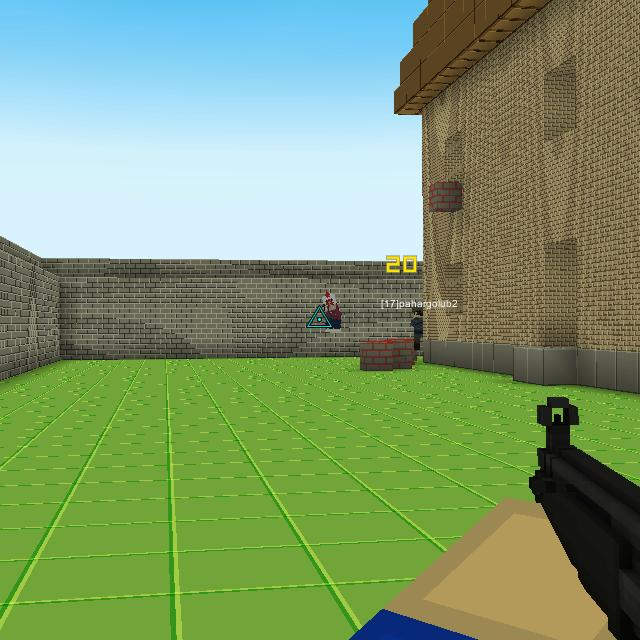enemy: (321, 289, 343, 333)
